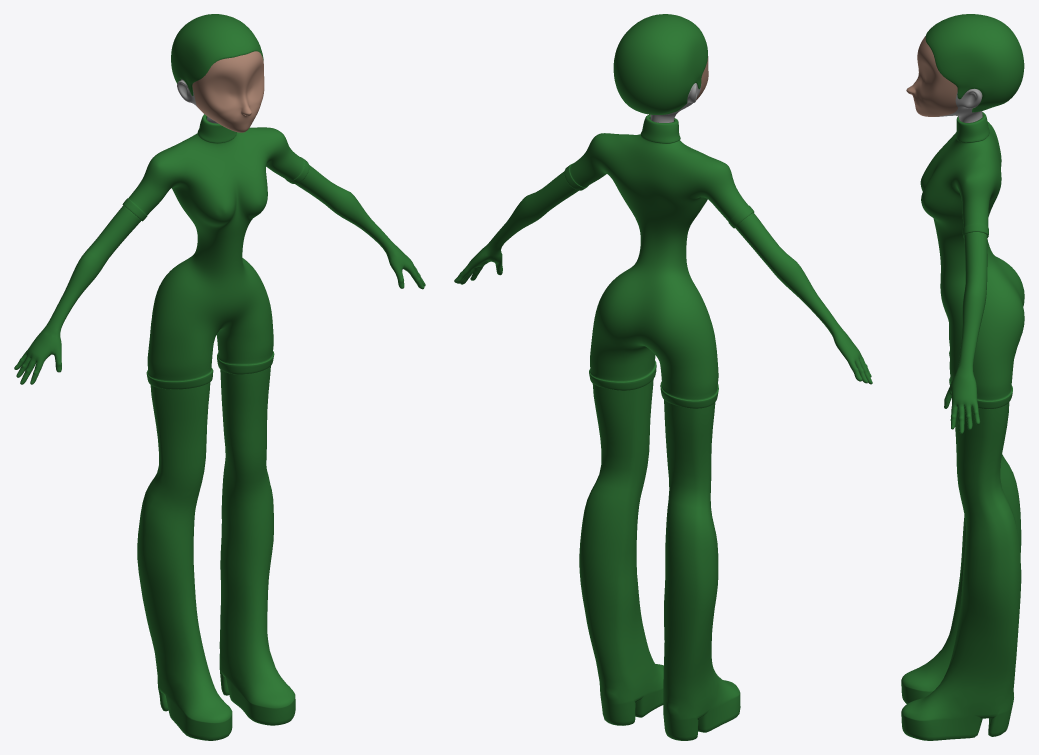
The model's file is Green_v02.fbx.
3 renders of one model, left to right at view 1: azimuth 30°, elevation 25°; view 2: azimuth 150°, elevation 25°; view 3: azimuth 270°, elevation 25°, orthographic.
Parts seen in each view (by area): view 1: Geo1_Green_Model_export_geo_Green_Model_Top; view 2: Geo1_Green_Model_export_geo_Green_Model_Top; view 3: Geo1_Green_Model_export_geo_Green_Model_Top.
Part boxes in pixels (bbox=[...]): Geo1_Green_Model_export_geo_Green_Model_Top: bbox=[14, 14, 425, 740]; Geo1_Green_Model_export_geo_Green_Model_Top: bbox=[454, 14, 872, 740]; Geo1_Green_Model_export_geo_Green_Model_Top: bbox=[901, 14, 1024, 740].
Bounding box in the file's own units: 103 × 168 × 26.96.
